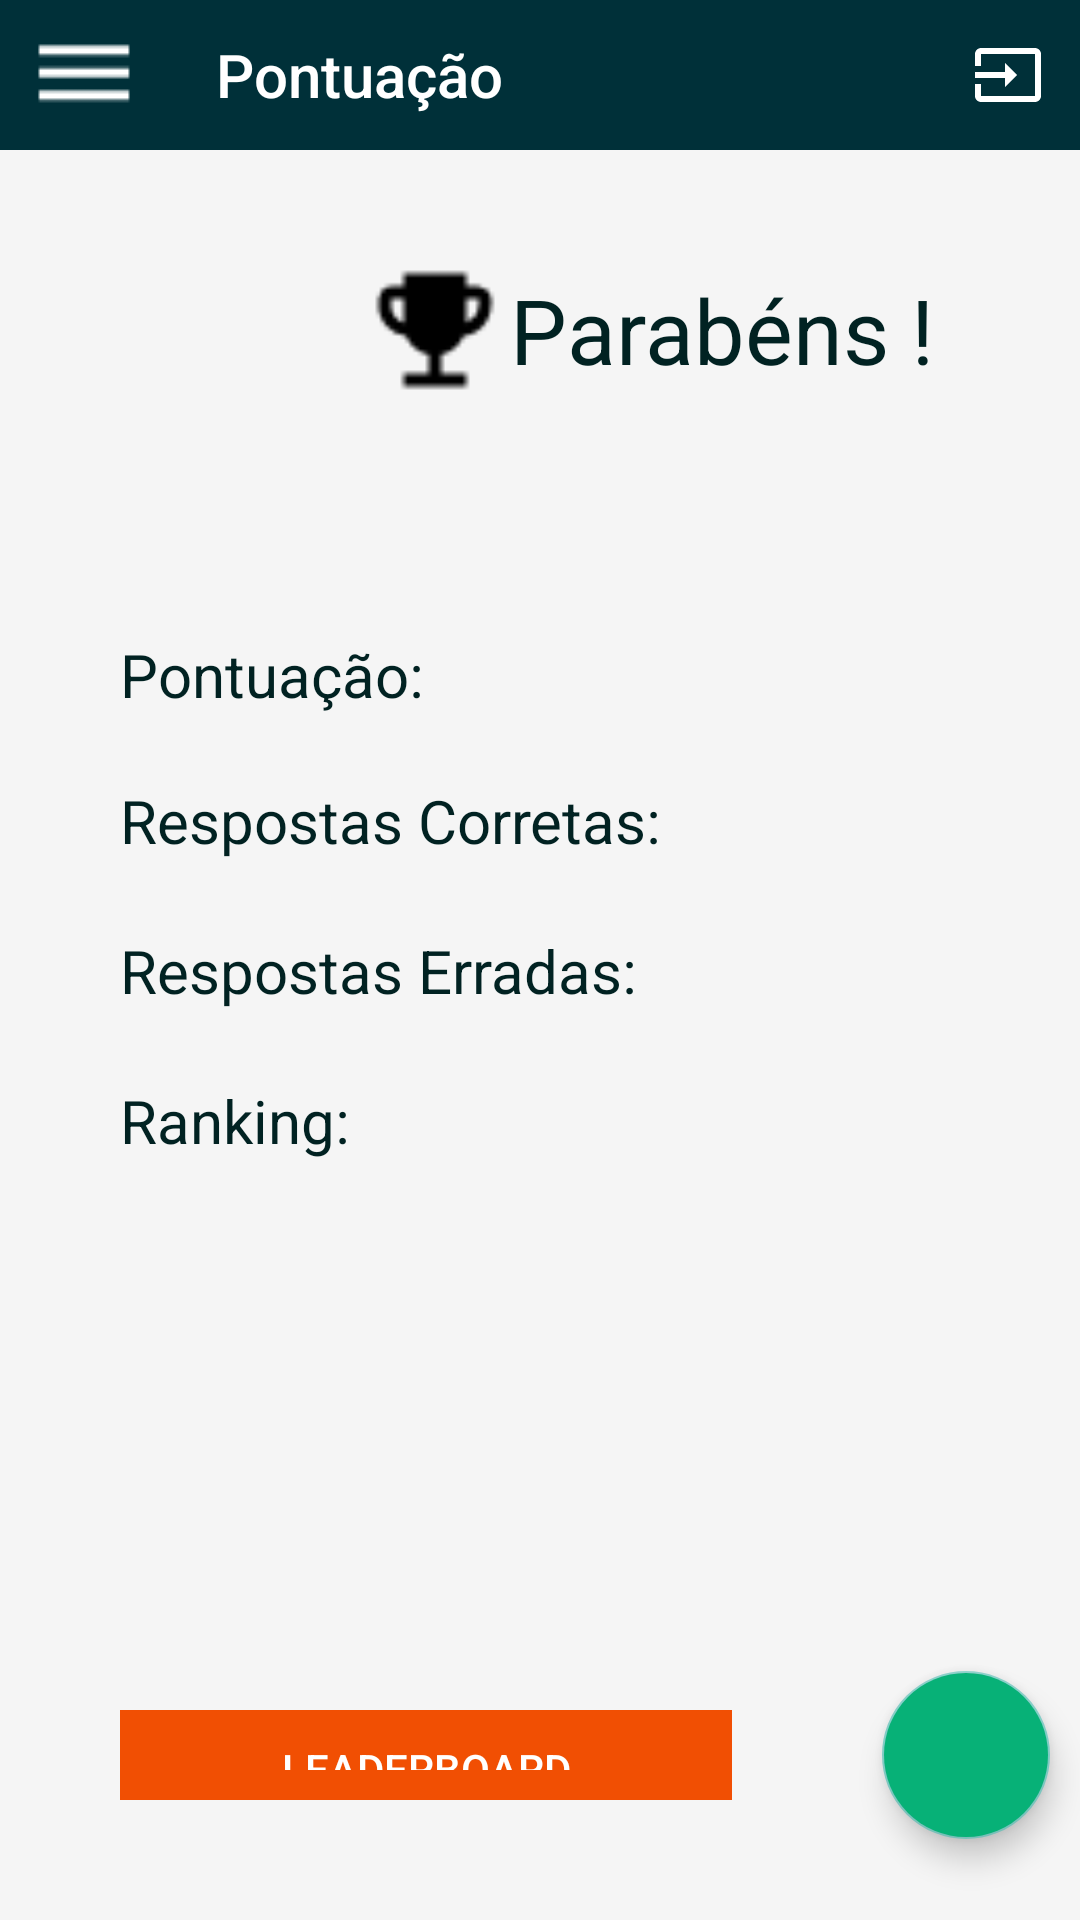

Screen size 1080 x 1920. Icon name, then its center in pixels as point (x, y):
emoji events: point (435, 330)
